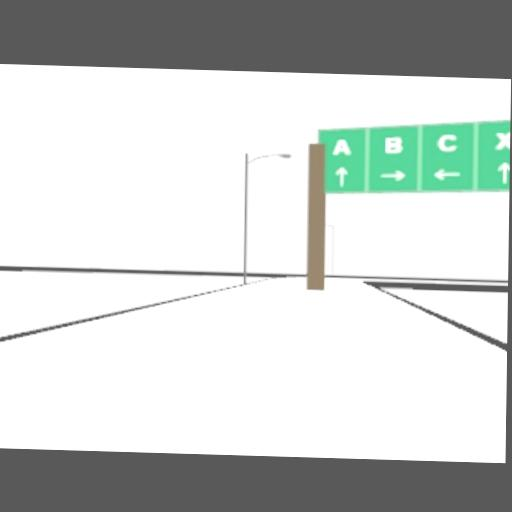A: (333, 138, 351, 154)
B: (384, 136, 402, 153)
C: (436, 133, 458, 152)
Left: (433, 169, 463, 181)
Right: (379, 169, 407, 181)
Straight: (496, 161, 509, 183), (334, 166, 347, 186)
X: (495, 132, 510, 150)
